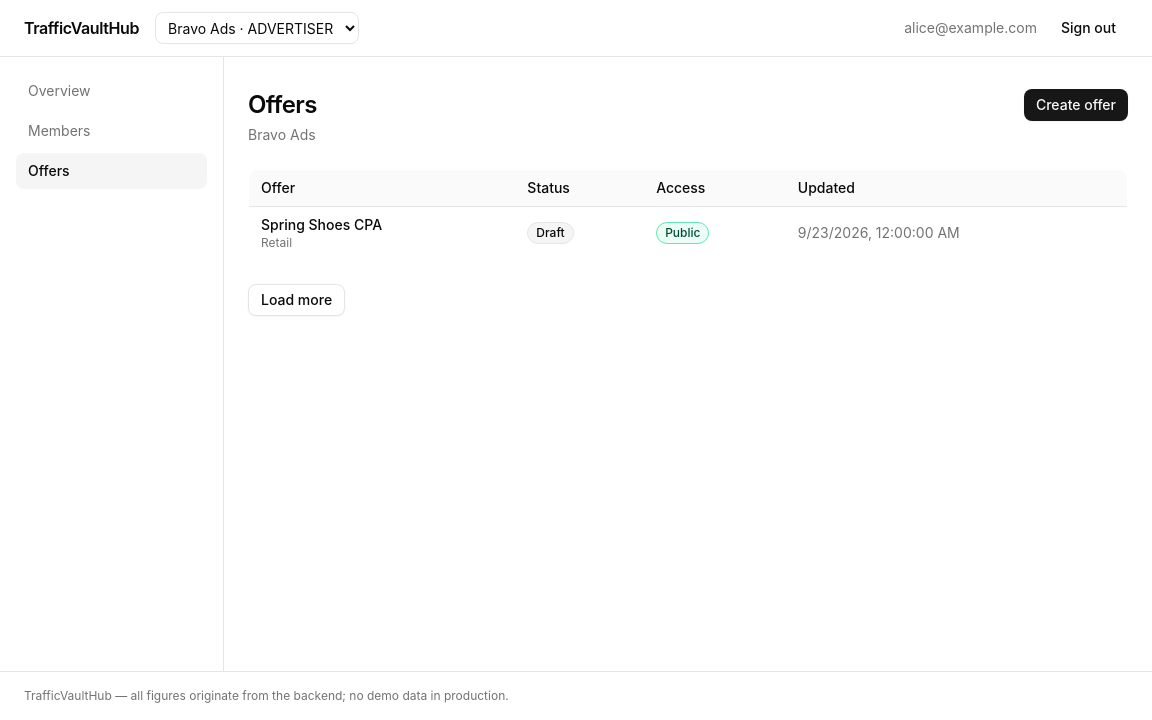
it: advertiser offers › /app/:orgId/offers › walks next_cursor with 'Load more' and keeps earlier rows
Expected: the link "Spring Shoes CPA" is shown, left=261, top=216, right=382, bottom=233
Expected: the link "Winter Boots CPL" is not shown
Click the button "Load more" at x=297, y=300, box left=248, top=284, right=345, bottom=316
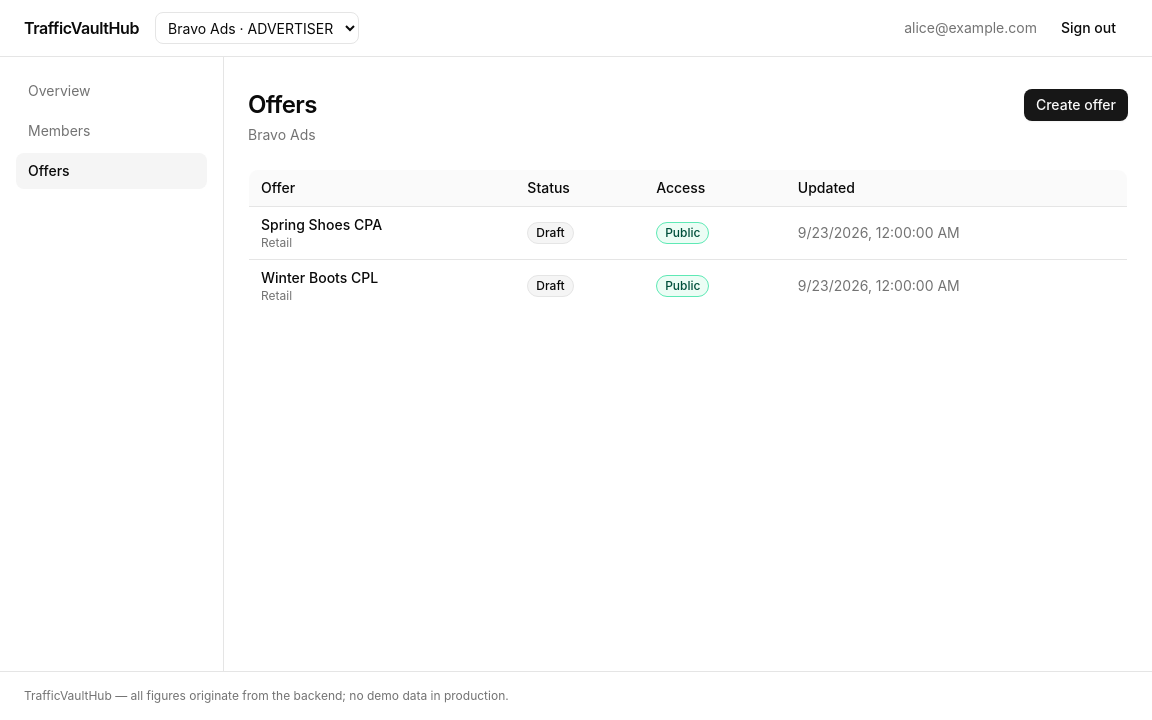
Expected: the link "Spring Shoes CPA" is shown, left=261, top=216, right=382, bottom=233
Expected: the link "Winter Boots CPL" is shown, left=261, top=269, right=378, bottom=286
Expected: the button "Load more" is gone
